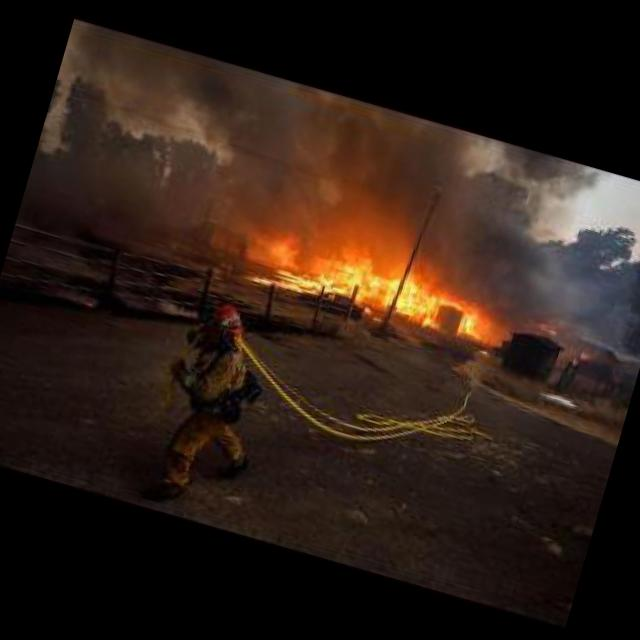fire: (228, 198, 526, 364)
smoke: (34, 16, 620, 316)
